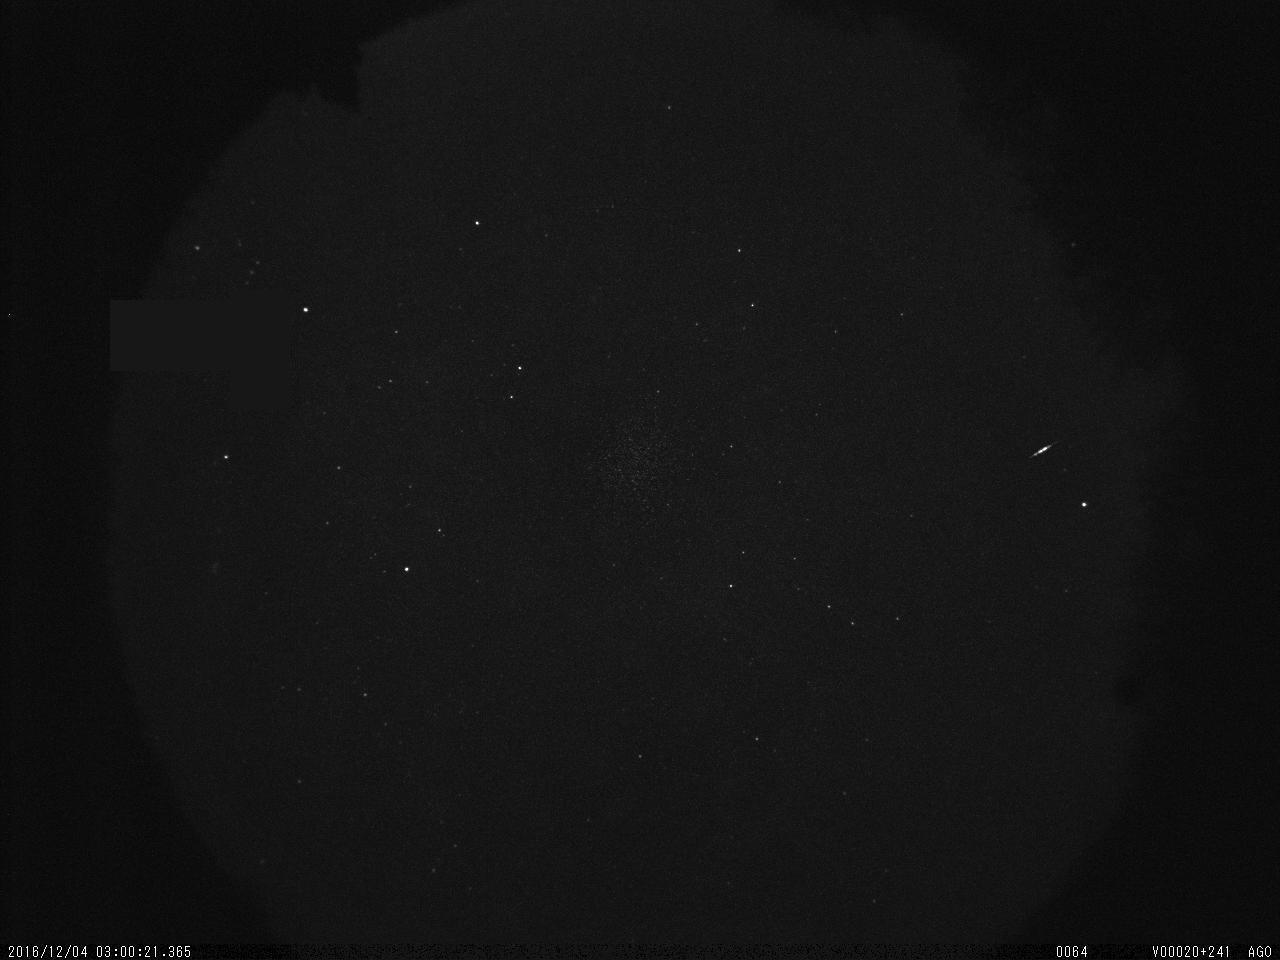meteor: (1023, 433, 1069, 466)
